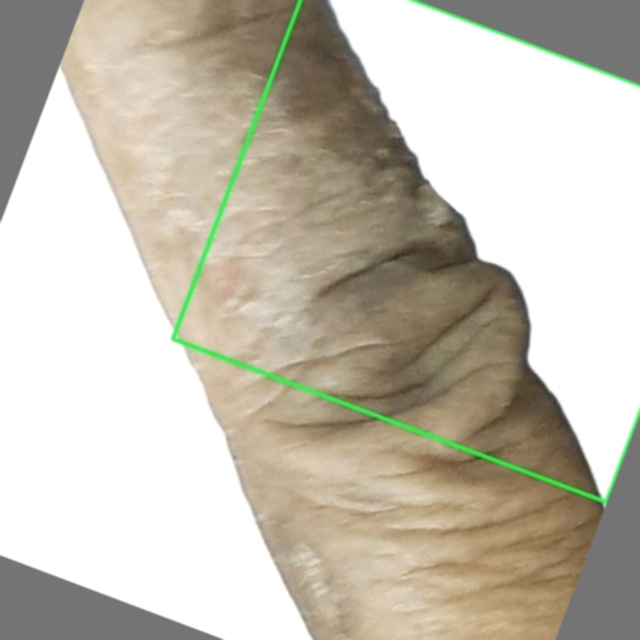Eczema: (172, 0, 639, 502)
